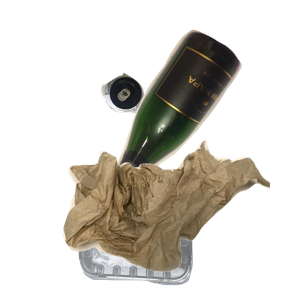glass: (87, 27, 300, 207)
metal: (99, 70, 236, 176)
plastic: (76, 162, 264, 300)
trash: (60, 138, 300, 300)
